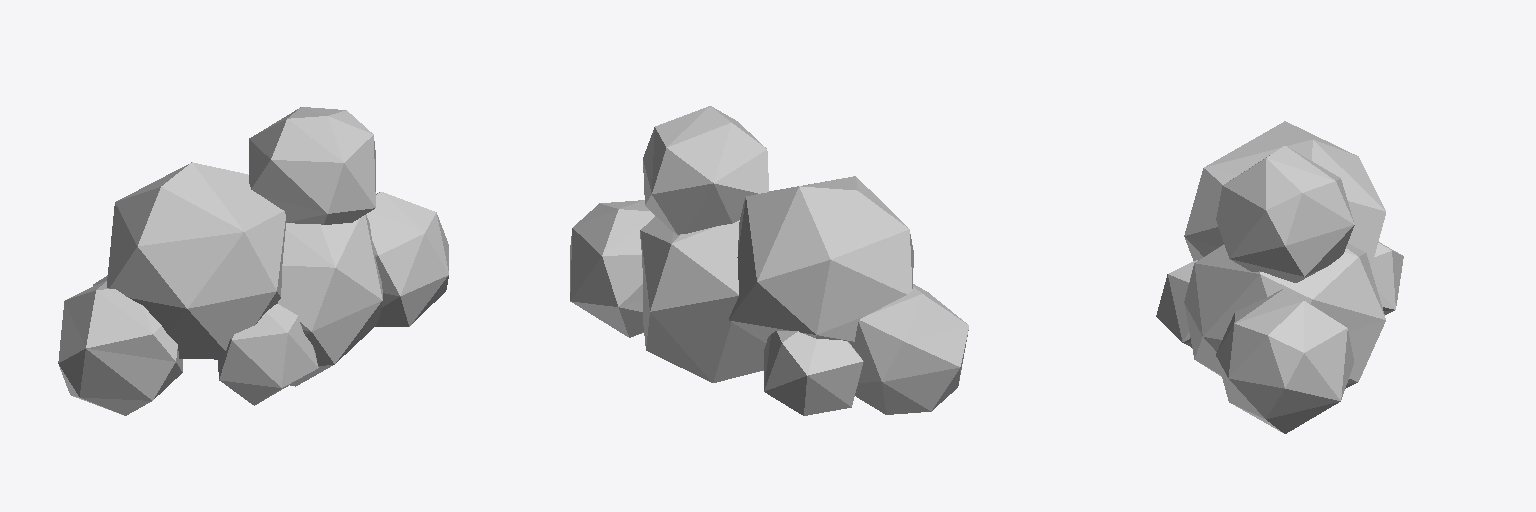
3 views of the same model, side by side, from view 1: azimuth 30°, elevation 25°; view 2: azimuth 150°, elevation 25°; view 3: azimuth 270°, elevation 25° (orthographic).
Parts seen in each view (by area): view 1: Cloud_3_Icosphere.042; view 2: Cloud_3_Icosphere.042; view 3: Cloud_3_Icosphere.042.
Part boxes in pixels (bbox=[...]): Cloud_3_Icosphere.042: bbox=[58, 107, 448, 415]; Cloud_3_Icosphere.042: bbox=[570, 106, 968, 415]; Cloud_3_Icosphere.042: bbox=[1156, 121, 1403, 433].
Bounding box in the file's own units: 4.43 × 2.8 × 2.43.
1 materials, 1 textured.